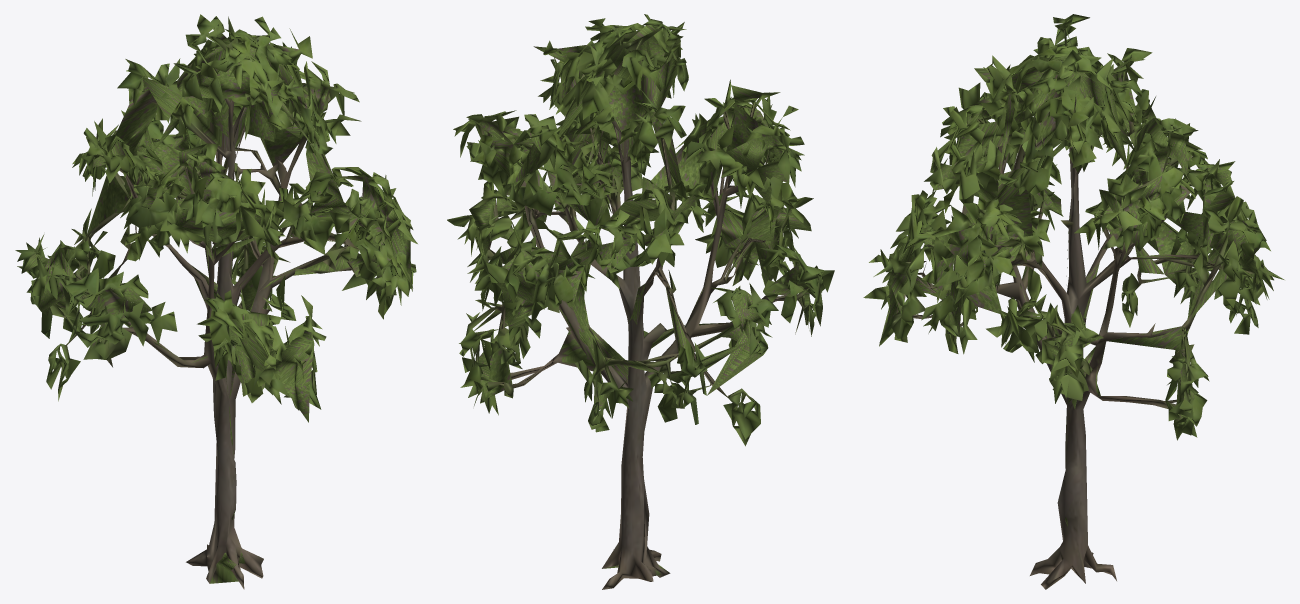
The model's file is roadside-tree.glb.
The picture shows the model from 3 angles, left to right: view 1: azimuth 30°, elevation 25°; view 2: azimuth 150°, elevation 25°; view 3: azimuth 270°, elevation 25°; orthographic projection.
Parts seen in each view (by area): view 1: lod_near, lod_far; view 2: lod_near, lod_far; view 3: lod_near, lod_far.
Boxes of the visible parts, left/top/right/bottom form: lod_near: left=15, top=14, right=417, bottom=589; lod_far: left=22, top=29, right=410, bottom=583; lod_near: left=447, top=14, right=834, bottom=589; lod_far: left=468, top=19, right=815, bottom=576; lod_near: left=863, top=14, right=1284, bottom=589; lod_far: left=879, top=23, right=1272, bottom=526.
Bounding box in the file's own units: 5.38 × 7.99 × 5.5.
1 material, 1 textured.
